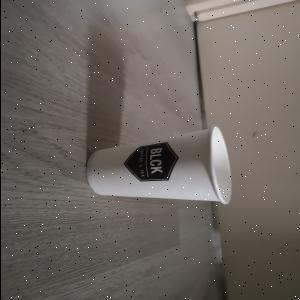Cup: (85, 126, 233, 206)
